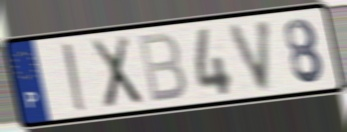4: (193, 24, 235, 98)
8: (284, 17, 325, 85)
B: (135, 30, 189, 105)
I: (60, 41, 89, 114)
V: (225, 17, 275, 94)
X: (87, 33, 146, 112)
